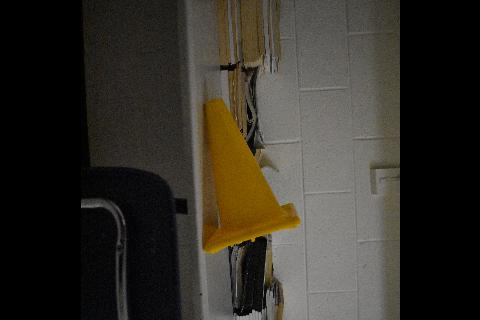cone: (203, 98, 299, 254)
